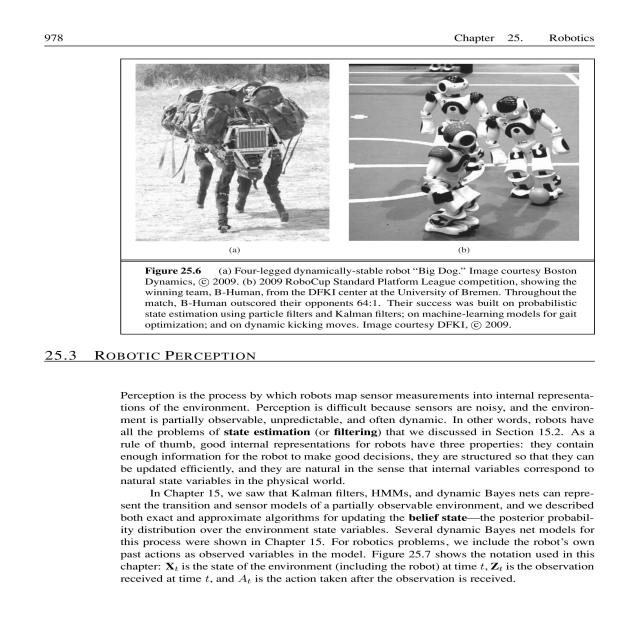diagram: (123, 60, 588, 336)
